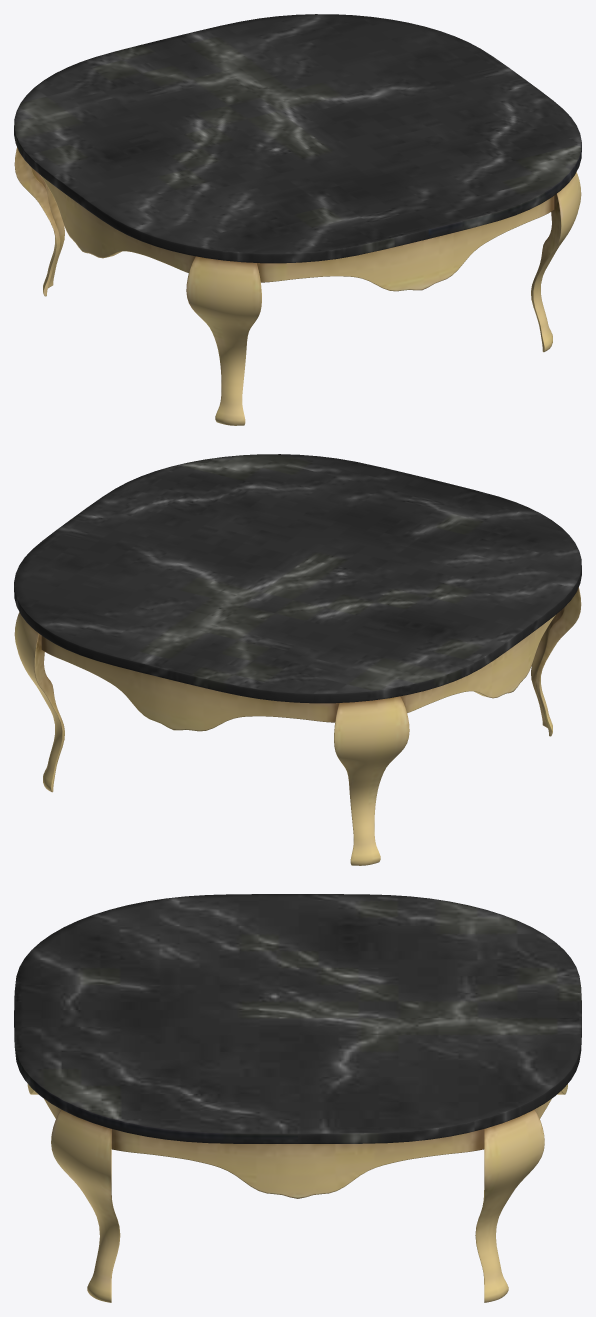
File: Table50.glb
3 renders of one model, top to bottom at view 1: azimuth 30°, elevation 25°; view 2: azimuth 150°, elevation 25°; view 3: azimuth 270°, elevation 25°, orthographic. The views are drawn at different scales.
Parts seen in each view (by area): view 1: Table50_model; view 2: Table50_model; view 3: Table50_model.
Boxes of the visible parts, x1,y1,x2,y2 form: Table50_model: [14, 14, 581, 425]; Table50_model: [14, 454, 581, 865]; Table50_model: [14, 894, 581, 1302].
Size of the model in its own units: 2.59 by 1.01 by 2.59.
1 material, 1 textured.
